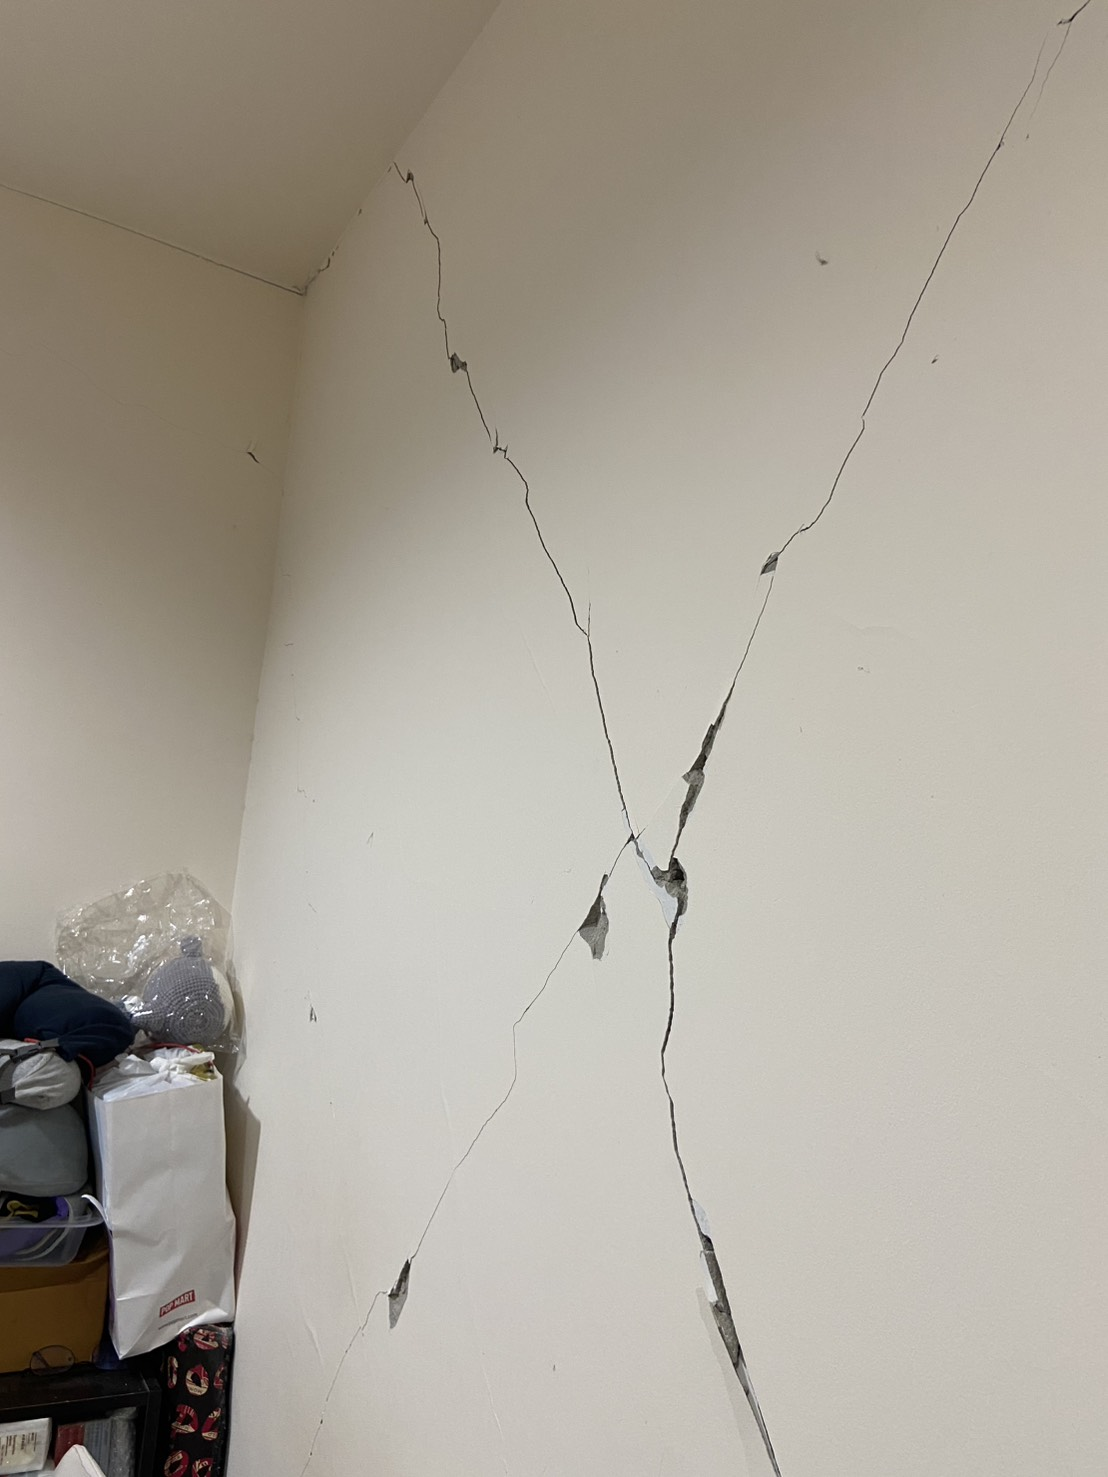Medium: (418, 332, 971, 1441)
